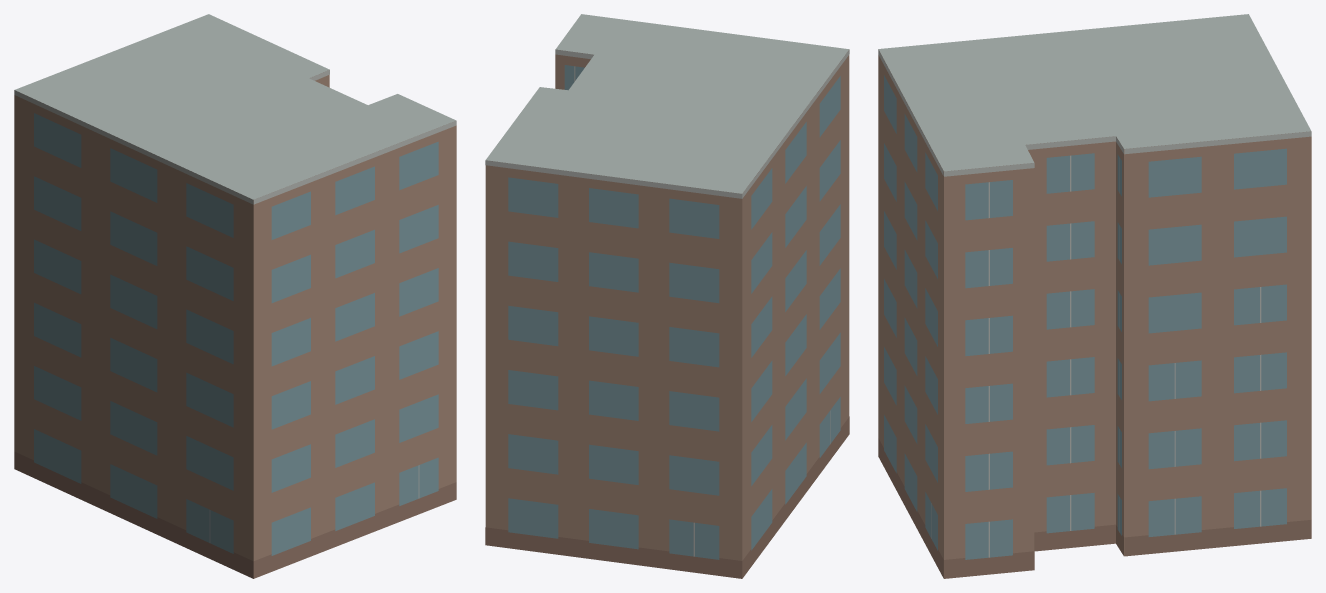
The model's file is survey-upis-32972405.glb.
3 renders of one model, left to right at view 1: azimuth 30°, elevation 25°; view 2: azimuth 150°, elevation 25°; view 3: azimuth 270°, elevation 25°, orthographic. The views are drawn at different scales.
Visible parts, largest first — view 1: survey-upis-32972405.tmp; view 2: survey-upis-32972405.tmp; view 3: survey-upis-32972405.tmp.
Part boxes in pixels (left/top/right/bottom): survey-upis-32972405.tmp: left=14, top=14, right=456, bottom=578; survey-upis-32972405.tmp: left=485, top=14, right=849, bottom=578; survey-upis-32972405.tmp: left=878, top=14, right=1311, bottom=578.
Size of the model in its own units: 15.51 by 18.7 by 18.03.
